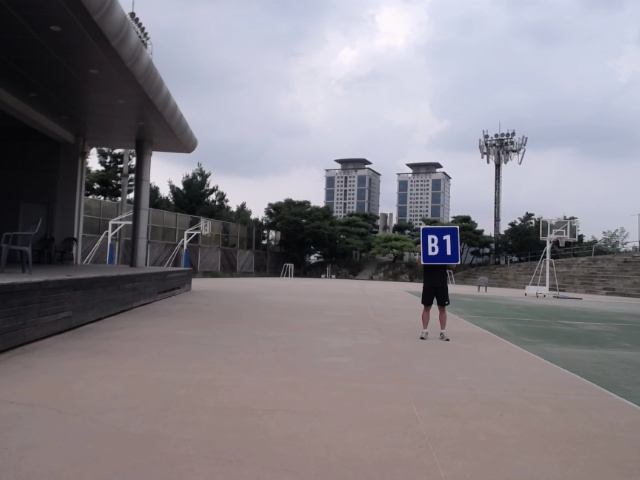delivery_b1: (420, 226, 460, 264)
